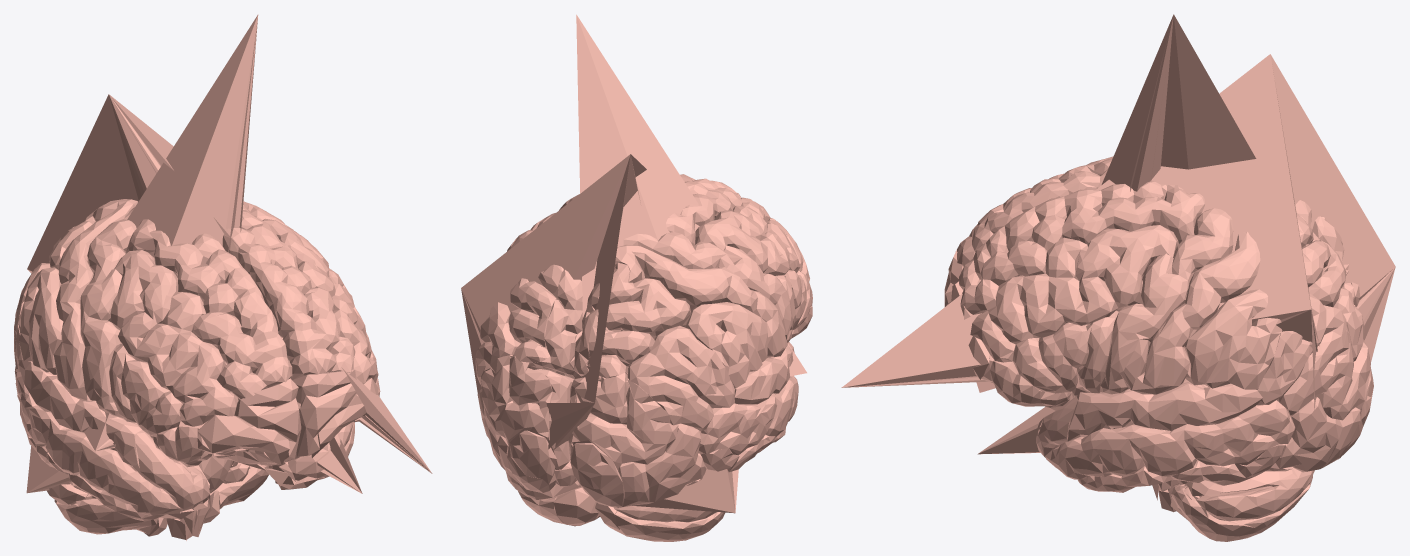
File: Allen_F_Brain_0.1.glb
3 renders of one model, left to right at view 1: azimuth 30°, elevation 25°; view 2: azimuth 150°, elevation 25°; view 3: azimuth 270°, elevation 25°, orthographic. The views are drawn at different scales.
Parts seen in each view (by area): view 1: Allen_white_matter_of_forebrain_L, Allen_white_matter_of_forebrain_R, Allen_superior_frontal_gyrus_L, Allen_middle_frontal_gyrus_L, Allen_superior_frontal_gyrus_R, Allen_middle_temporal_gyrus_L, Allen_precentral_gyrus_L, Allen_postcentral_gyrus_L, Allen_superior_temporal_gyrus_L, Allen_middle_frontal_gyrus_R, Allen_supramarginal_gyrus_L, Allen_rostral_gyrus_R (+15 smaller); view 2: Allen_white_matter_of_forebrain_L, Allen_white_matter_of_forebrain_R, Allen_angular_gyrus_L, Allen_superior_occipital_gyrus_L, Allen_supraparietal_lobule_L, Allen_postcentral_gyrus_L, Allen_superior_occipital_gyrus_R, Allen_supramarginal_gyrus_L, Allen_middle_frontal_gyrus_L, Allen_precentral_gyrus_L, Allen_middle_temporal_gyrus_L, Allen_inferior_occipital_gyrus_L (+16 smaller); view 3: Allen_white_matter_of_forebrain_R, Allen_middle_frontal_gyrus_R, Allen_white_matter_of_forebrain_L, Allen_superior_frontal_gyrus_R, Allen_middle_temporal_gyrus_R, Allen_precentral_gyrus_R, Allen_postcentral_gyrus_R, Allen_superior_temporal_gyrus_R, Allen_supramarginal_gyrus_R, Allen_lateral_hemisphere_of_cerebellum_R, Allen_angular_gyrus_R, Allen_inferior_frontal_gyrus_triangular_part_R (+9 smaller).
Part boxes in pixels (x1=…): Allen_white_matter_of_forebrain_L: x1=26, y1=14, x2=258, y2=493; Allen_white_matter_of_forebrain_R: x1=27, y1=94, x2=432, y2=493; Allen_superior_frontal_gyrus_L: x1=126, y1=219, x2=292, y2=400; Allen_middle_frontal_gyrus_L: x1=110, y1=250, x2=238, y2=426; Allen_superior_frontal_gyrus_R: x1=222, y1=206, x2=355, y2=380; Allen_middle_temporal_gyrus_L: x1=15, y1=371, x2=181, y2=515; Allen_precentral_gyrus_L: x1=80, y1=207, x2=136, y2=417; Allen_postcentral_gyrus_L: x1=53, y1=199, x2=137, y2=401; Allen_superior_temporal_gyrus_L: x1=18, y1=359, x2=150, y2=477; Allen_middle_frontal_gyrus_R: x1=262, y1=218, x2=378, y2=384; Allen_supramarginal_gyrus_L: x1=18, y1=267, x2=63, y2=374; Allen_rostral_gyrus_R: x1=292, y1=369, x2=356, y2=456; Allen_white_matter_of_forebrain_L: x1=576, y1=14, x2=806, y2=513; Allen_white_matter_of_forebrain_R: x1=461, y1=154, x2=646, y2=450; Allen_angular_gyrus_L: x1=627, y1=325, x2=734, y2=431; Allen_superior_occipital_gyrus_L: x1=572, y1=373, x2=678, y2=471; Allen_supraparietal_lobule_L: x1=587, y1=263, x2=691, y2=378; Allen_postcentral_gyrus_L: x1=614, y1=244, x2=787, y2=357; Allen_superior_occipital_gyrus_R: x1=481, y1=355, x2=552, y2=445; Allen_supramarginal_gyrus_L: x1=685, y1=302, x2=767, y2=388; Allen_middle_frontal_gyrus_L: x1=695, y1=205, x2=809, y2=281; Allen_precentral_gyrus_L: x1=623, y1=232, x2=793, y2=342; Allen_middle_temporal_gyrus_L: x1=698, y1=375, x2=798, y2=455; Allen_inferior_occipital_gyrus_L: x1=617, y1=423, x2=706, y2=507; Allen_white_matter_of_forebrain_R: x1=841, y1=54, x2=1395, y2=454; Allen_middle_frontal_gyrus_R: x1=970, y1=225, x2=1178, y2=362; Allen_white_matter_of_forebrain_L: x1=1101, y1=14, x2=1256, y2=191; Allen_superior_frontal_gyrus_R: x1=959, y1=181, x2=1205, y2=314; Allen_middle_temporal_gyrus_R: x1=1045, y1=400, x2=1294, y2=479; Allen_precentral_gyrus_R: x1=1100, y1=208, x2=1233, y2=394; Allen_postcentral_gyrus_R: x1=1130, y1=231, x2=1260, y2=394; Allen_superior_temporal_gyrus_R: x1=1067, y1=383, x2=1262, y2=441; Allen_supramarginal_gyrus_R: x1=1184, y1=289, x2=1282, y2=389; Allen_lateral_hemisphere_of_cerebellum_R: x1=1165, y1=468, x2=1313, y2=541; Allen_angular_gyrus_R: x1=1257, y1=293, x2=1346, y2=415; Allen_inferior_frontal_gyrus_triangular_part_R: x1=1012, y1=322, x2=1092, y2=393.
Bounding box in the file's own units: 0.1364 × 0.2298 × 0.2157.
